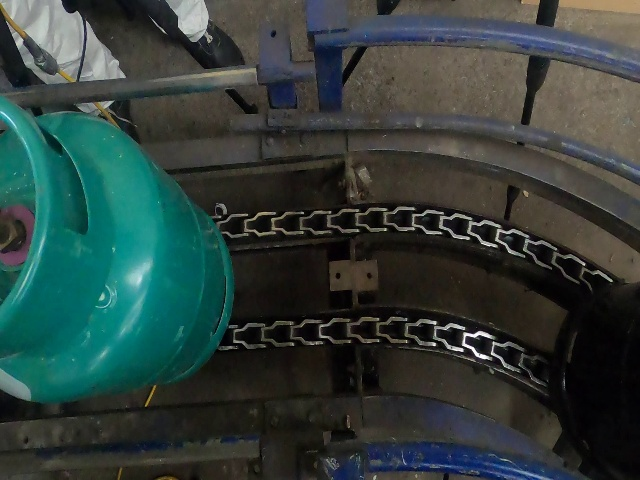gas_bottle: (4, 4, 640, 480)
